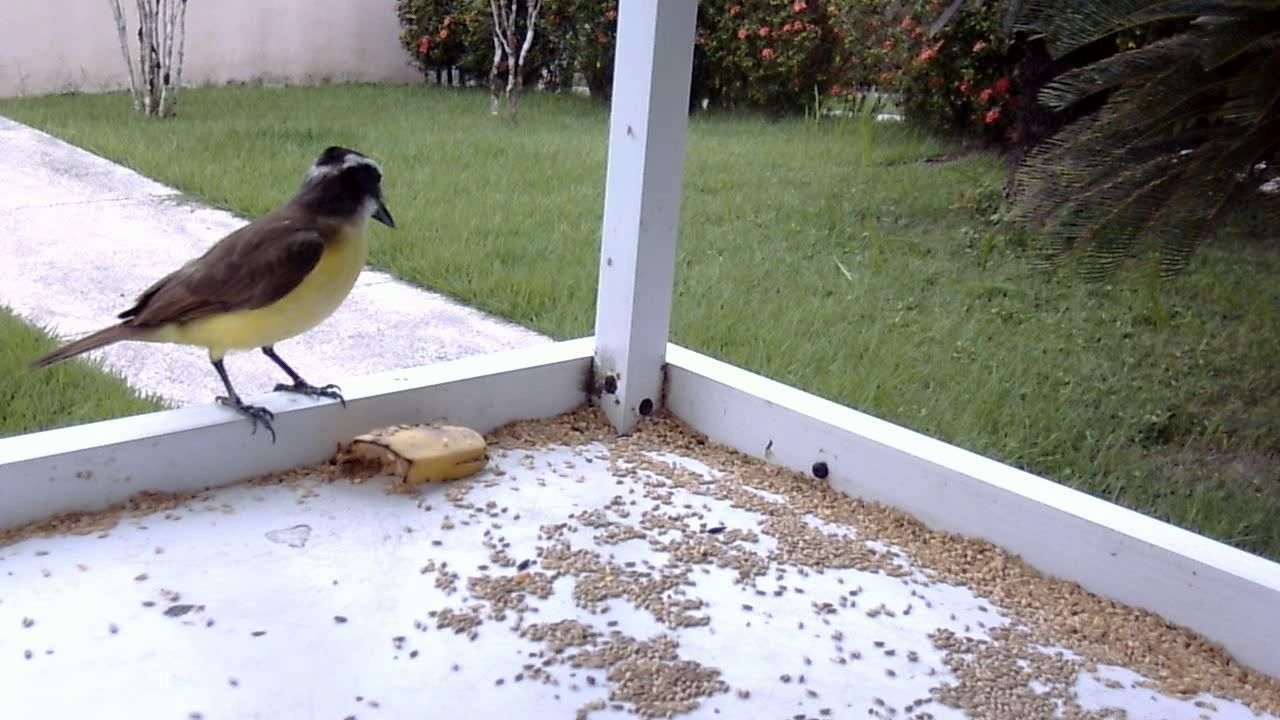bem_te_vi: (18, 140, 398, 448)
